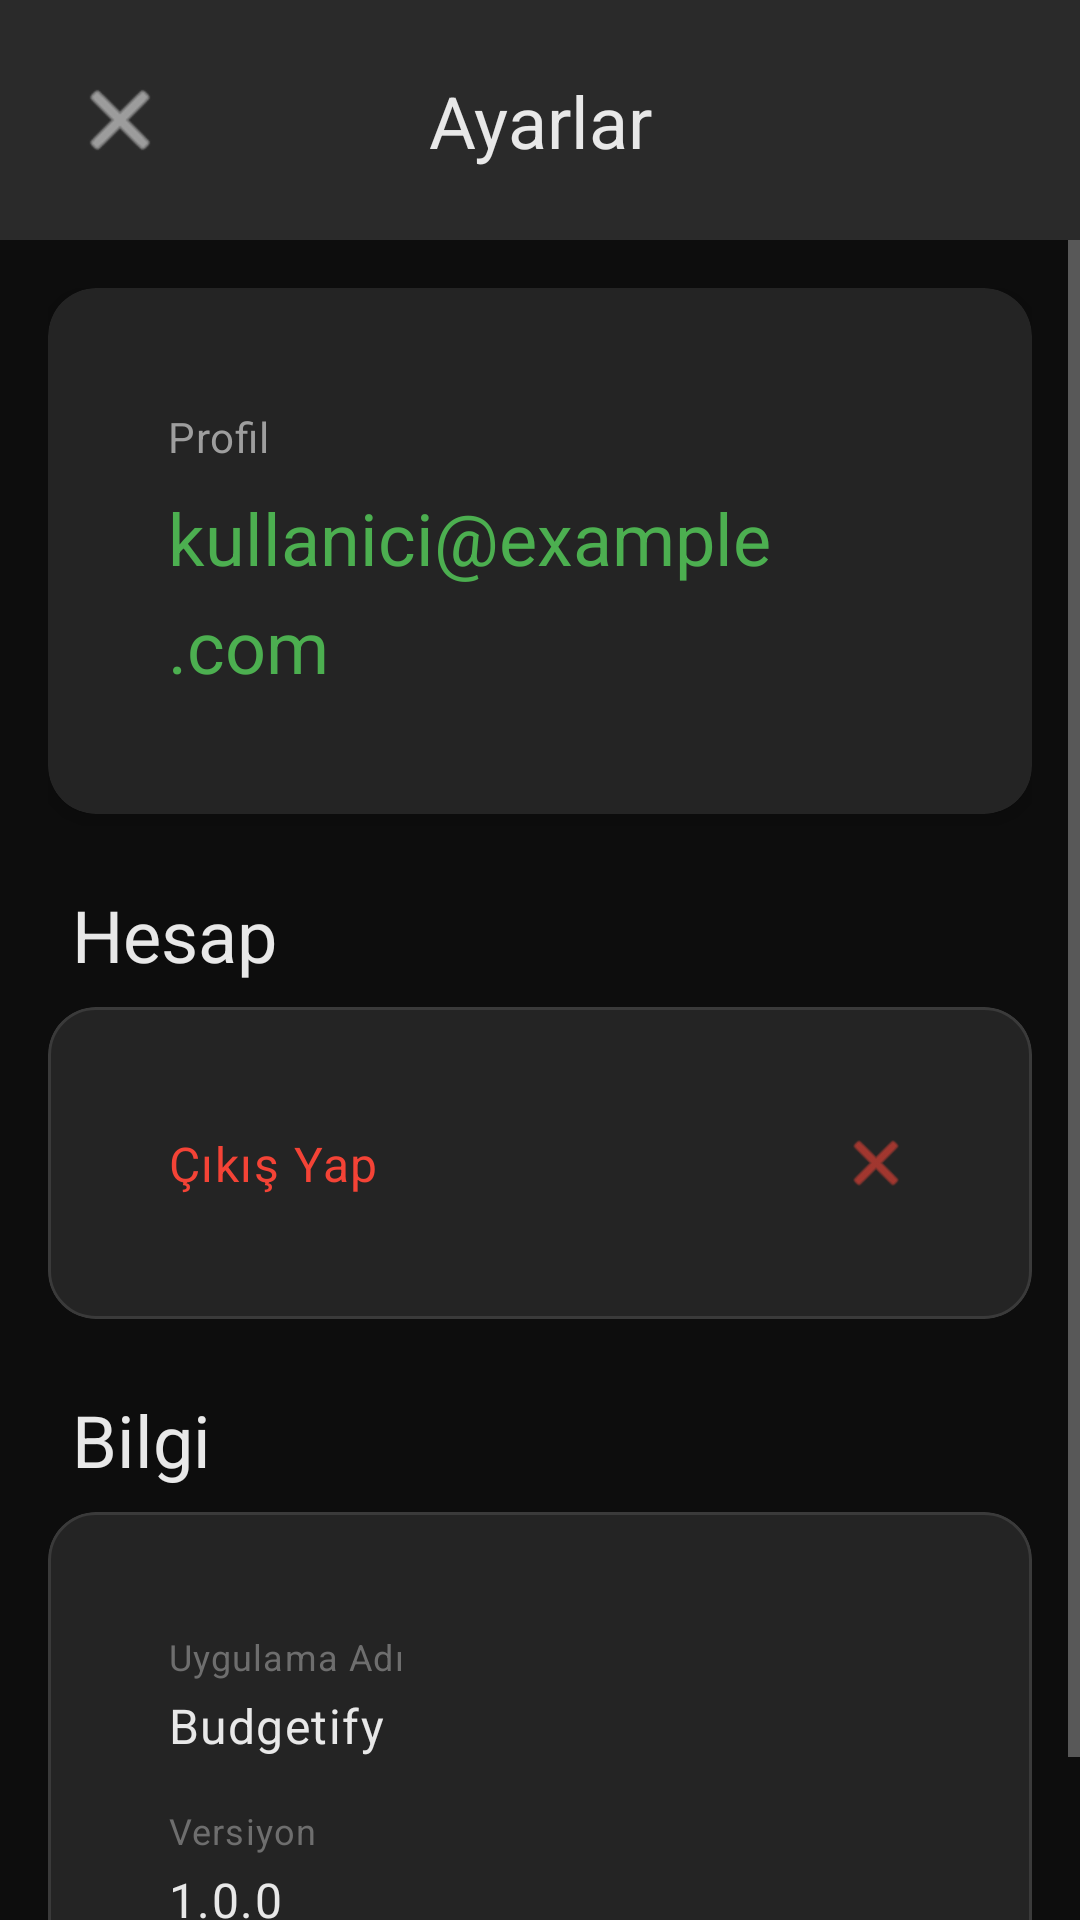

Named icons in this screenshot (1080 × 1920) and their centers, point (x, y):
close clear cancel: point (876, 1163)
